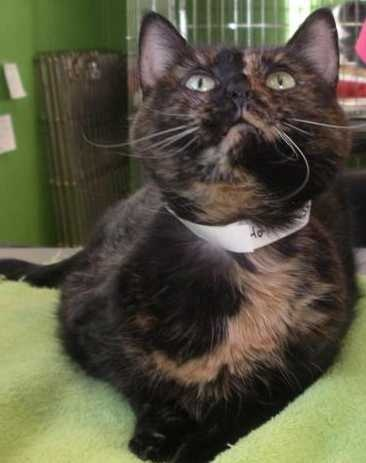Cat: (60, 8, 357, 420), (58, 185, 357, 462)
